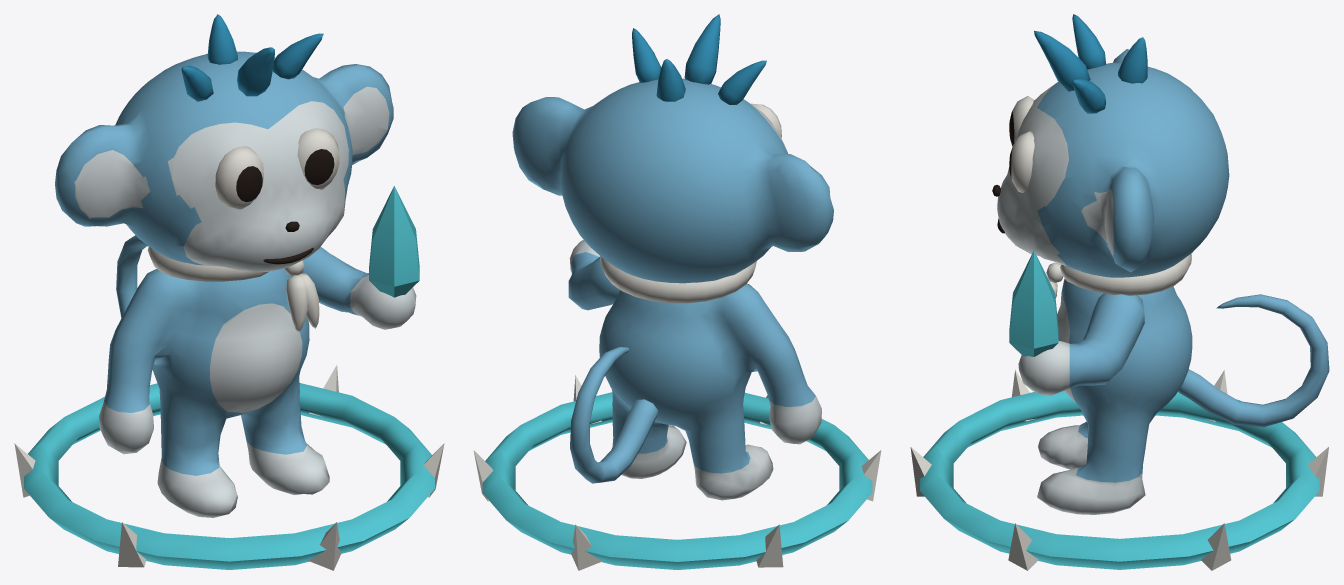
3 renders of one model, left to right at view 1: azimuth 30°, elevation 25°; view 2: azimuth 150°, elevation 25°; view 3: azimuth 270°, elevation 25°, orthographic. The views are drawn at different scales.
Parts seen in each view (by area): view 1: gelo_3_cabeca, gelo_1_corpo, gelo_0_base, gelo_4_braco, gelo_2_cauda; view 2: gelo_3_cabeca, gelo_1_corpo, gelo_0_base, gelo_2_cauda, gelo_4_braco; view 3: gelo_3_cabeca, gelo_0_base, gelo_1_corpo, gelo_4_braco, gelo_2_cauda.
Boxes of the visible parts, x1,y1,x2,y2 form: gelo_3_cabeca: (55,14,393,271); gelo_1_corpo: (99,246,329,517); gelo_0_base: (14,365,444,570); gelo_4_braco: (292,186,419,329); gelo_2_cauda: (116,235,152,370); gelo_3_cabeca: (512,14,833,283); gelo_1_corpo: (599,256,821,500); gelo_0_base: (473,375,881,570); gelo_2_cauda: (570,347,657,483); gelo_4_braco: (568,240,619,310); gelo_3_cabeca: (992,14,1229,277); gelo_0_base: (910,370,1328,570); gelo_1_corpo: (1037,253,1192,514); gelo_4_braco: (1009,251,1144,395); gelo_2_cauda: (1178,294,1329,427).
Size of the model in its own units: 0.852 by 1.08 by 0.8791.
